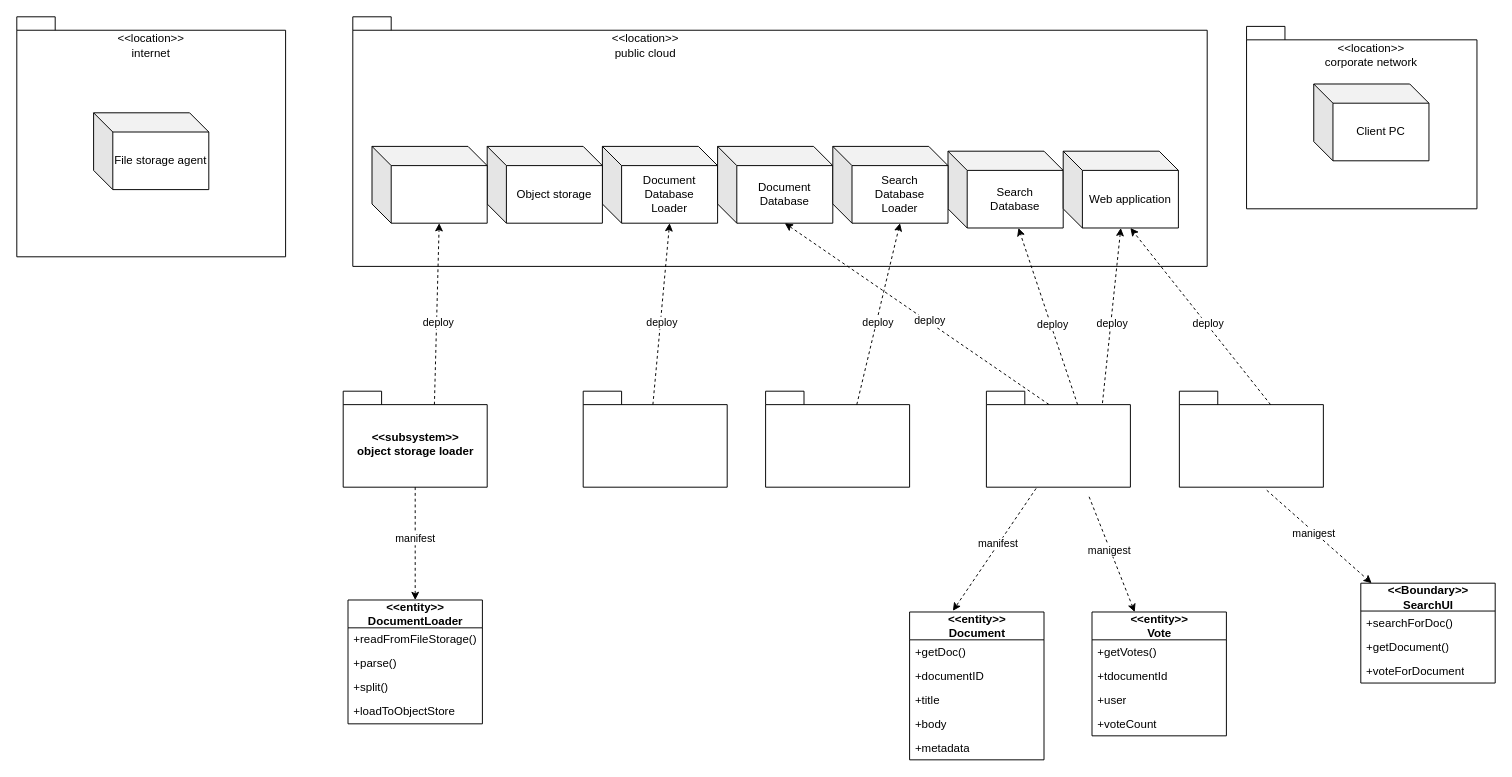
This 1512x777 diagram has some shape labels left out. Each missing label, with the centre of its shape:
"<<subsystem>> Data Access Layer" belongs at point 1057,438.
"<<subsystem>> DocumentDB loader" belongs at point 654,438.
"<<subsystem>> SearchDB loader" belongs at point 837,438.
"<<subsystem>> Web application" belongs at point 1250,438.
"Object storage Loader" belongs at point 429,184.
